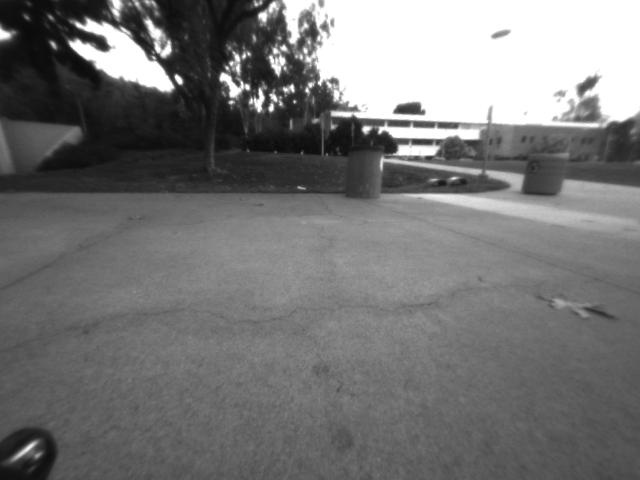trashcan: (514, 146, 569, 201), (345, 141, 385, 201)
